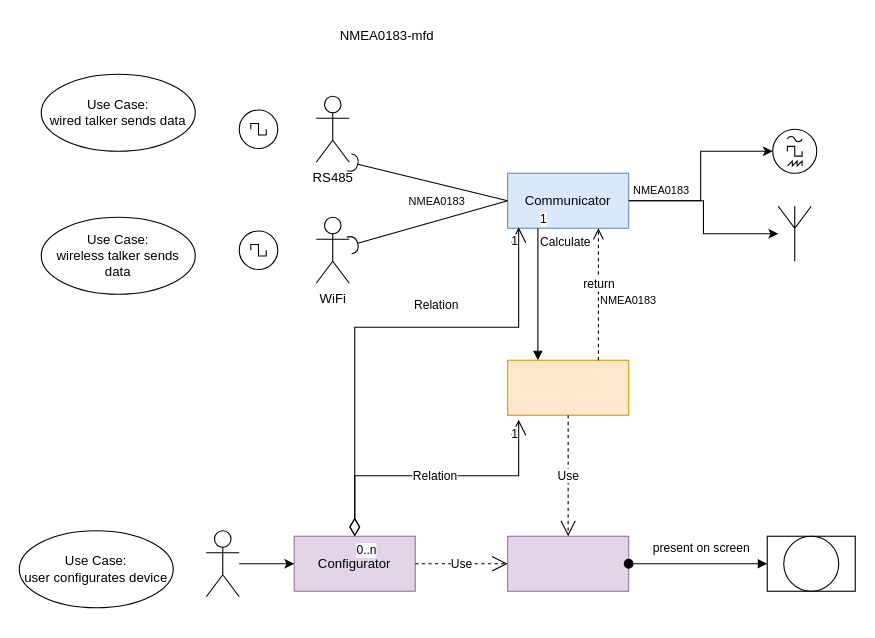
This 875x638 diagram has some shape labels left out. Each missing label, with the centre of its shape:
Calculator: (568,387)
User: (222,563)
Visualizer: (568,563)
